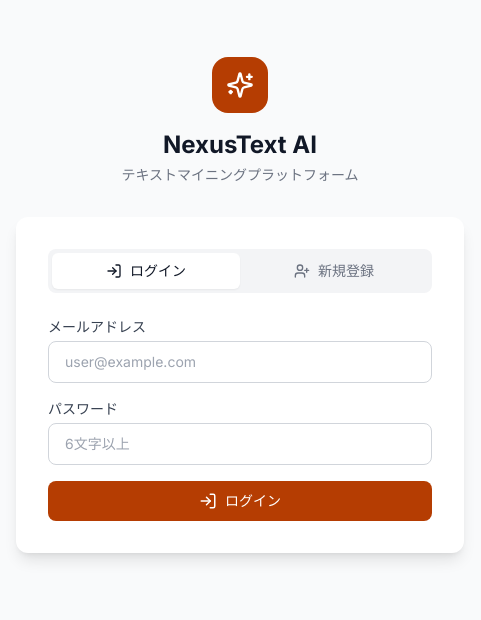
Scenario: LoginPage › 新規登録タブに切り替えると表示名フィールドが表示される
Click the button "新規登録": (334, 271) [240, 253, 428, 289]
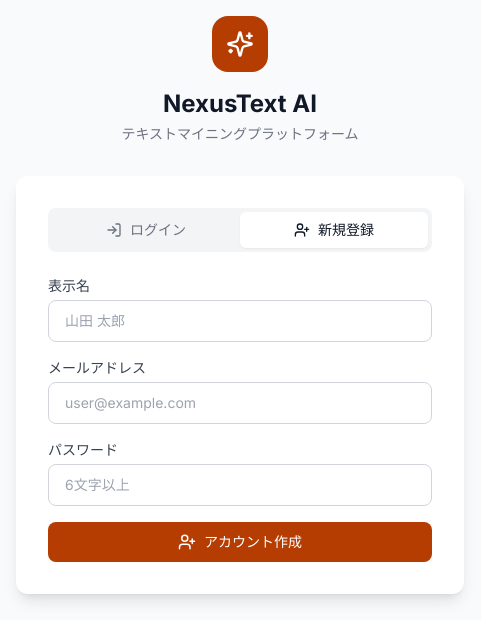
Expected: the field with placeholder "山田 太郎" is shown, [48, 300, 432, 342]
Expected: the button "アカウント作成" is shown, [48, 522, 432, 562]
